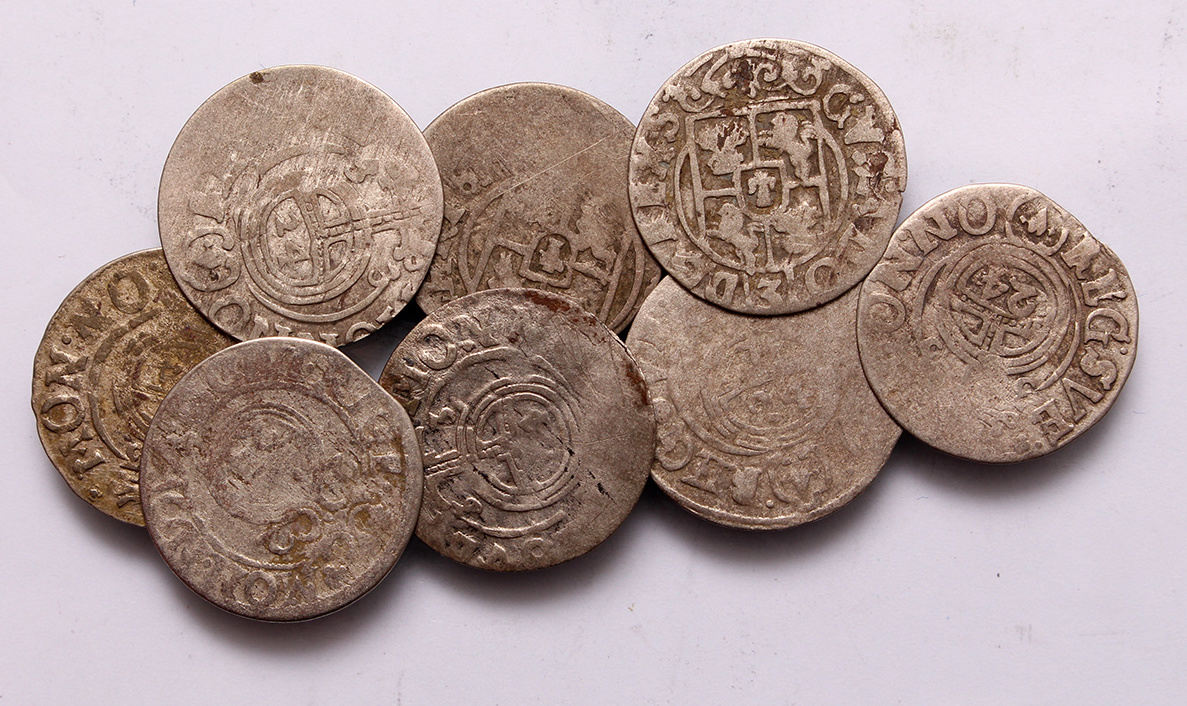coin: (140, 336, 424, 624), (155, 66, 444, 346), (855, 181, 1140, 464), (624, 36, 910, 318), (379, 289, 657, 566), (624, 271, 903, 526), (415, 78, 657, 331), (31, 245, 242, 528)
